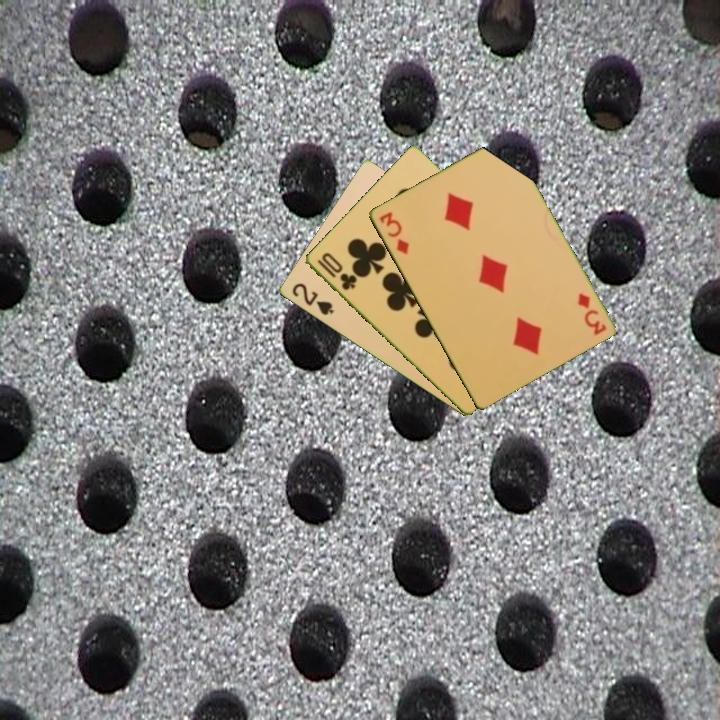10c: (313, 249, 359, 293)
2s: (288, 279, 336, 318)
3d: (375, 208, 411, 257), (574, 289, 609, 338)
